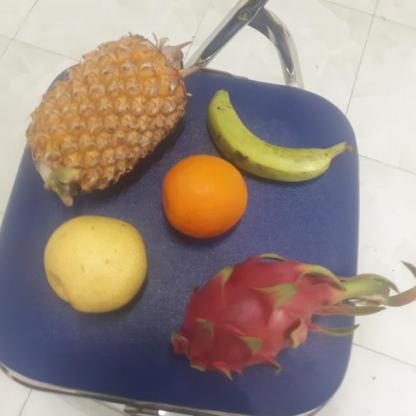banana: (206, 87, 334, 186)
orange: (162, 151, 249, 240)
pear: (41, 214, 147, 315)
pineapple: (23, 28, 189, 192)
pitaya: (170, 247, 334, 372)
